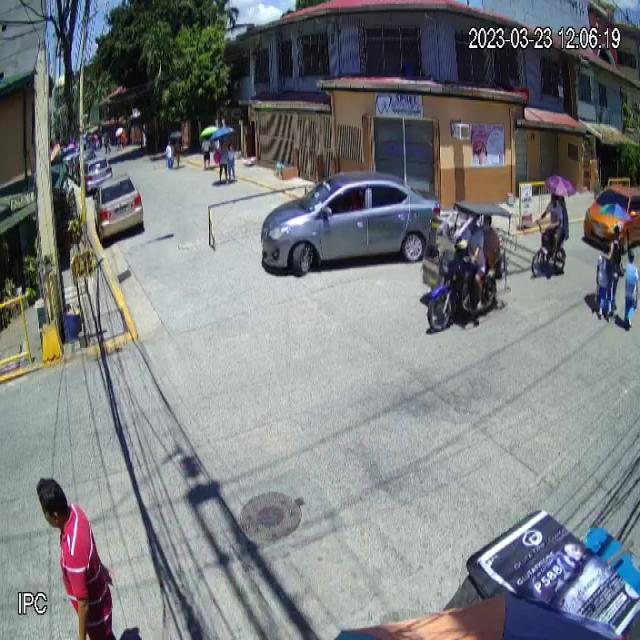Car: (260, 170, 441, 276), (93, 172, 144, 240)
Motorcycle: (420, 201, 514, 332)
